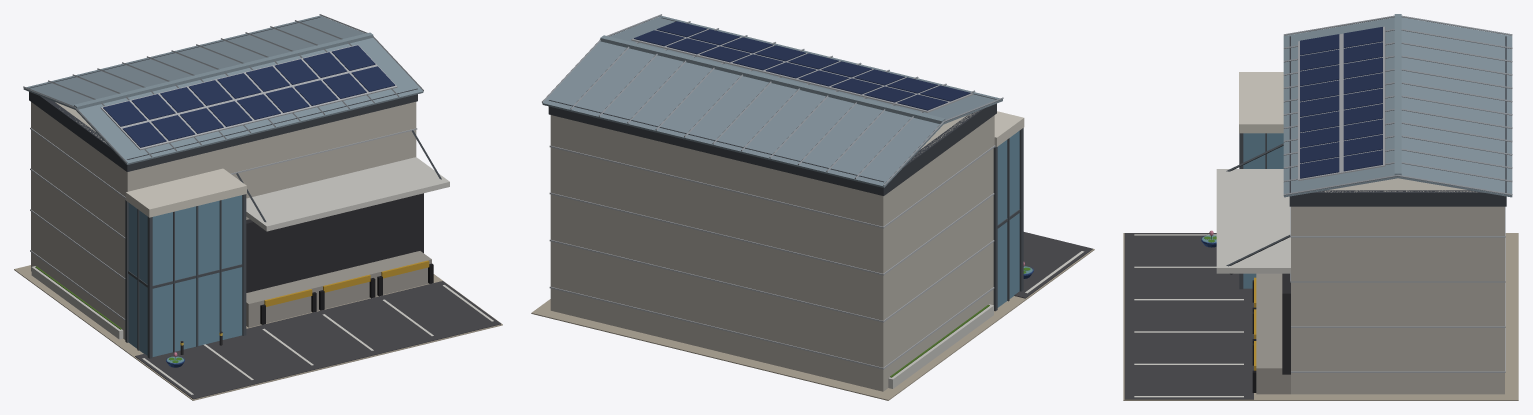
Rendered from factory_2.glb.
3 views of the same model, side by side, from view 1: azimuth 30°, elevation 25°; view 2: azimuth 150°, elevation 25°; view 3: azimuth 270°, elevation 25° (orthographic). The views are drawn at different scales.
Parts seen in each view (by area): view 1: body; view 2: body; view 3: body.
Part boxes in pixels (box(x1,y1,x2,y2)): body: box(14, 14, 502, 400); body: box(531, 14, 1094, 400); body: box(1123, 14, 1518, 400).
Size of the model in its own units: 15.9 by 9.92 by 15.9.
